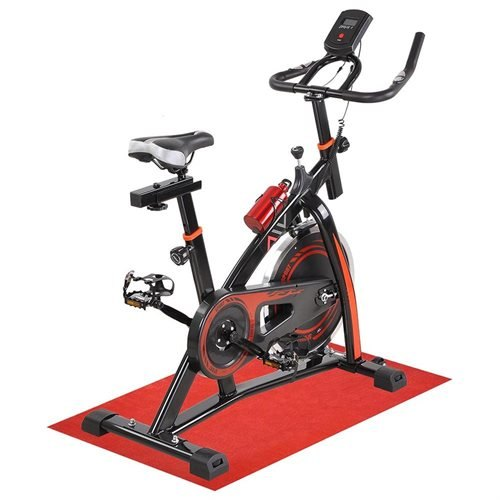gym_bike: (47, 5, 450, 484)
